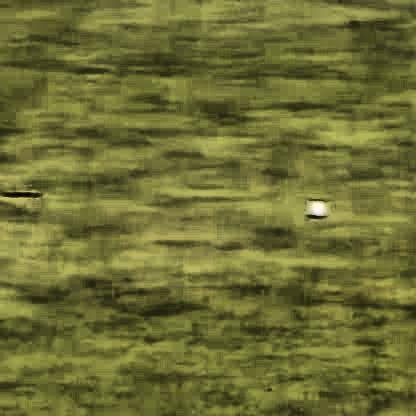golfball: (303, 202, 325, 218)
